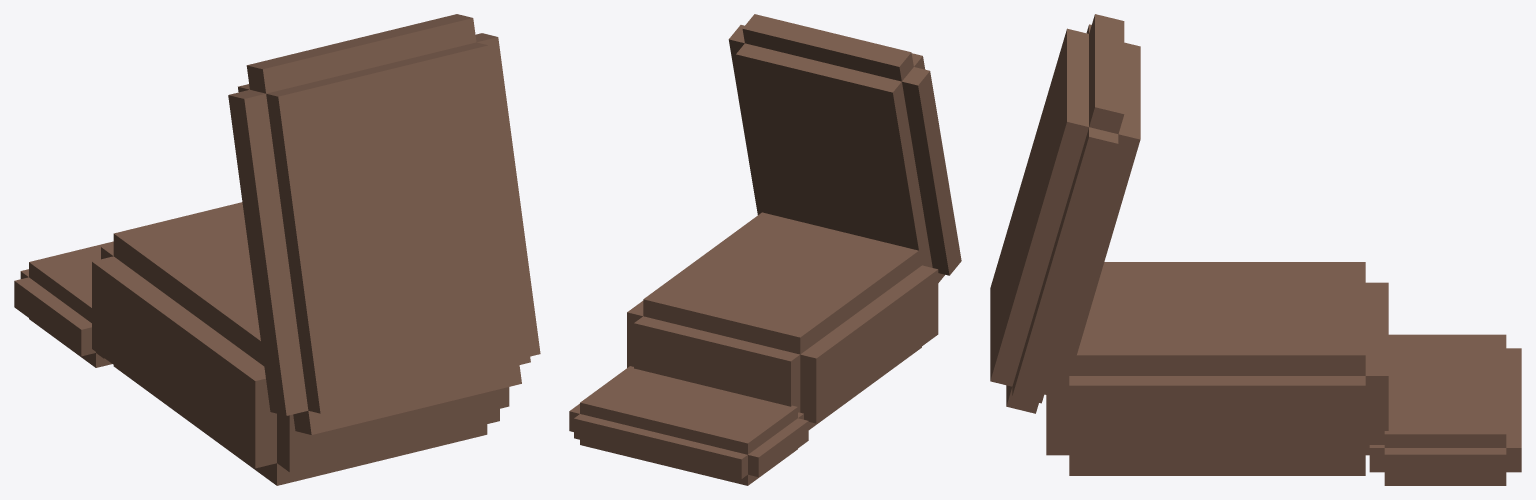
File: massage_chair.glb
The picture shows the model from 3 angles, left to right: view 1: azimuth 30°, elevation 25°; view 2: azimuth 150°, elevation 25°; view 3: azimuth 270°, elevation 25°; orthographic projection. The views are drawn at different scales.
Visible parts, largest first — view 1: massage_chair; view 2: massage_chair; view 3: massage_chair.
Boxes of the visible parts, left/top/right/bottom form: massage_chair: left=14, top=14, right=540, bottom=485; massage_chair: left=569, top=14, right=961, bottom=485; massage_chair: left=990, top=14, right=1521, bottom=485.
Size of the model in its own units: 0.7 by 1.09 by 1.4.
